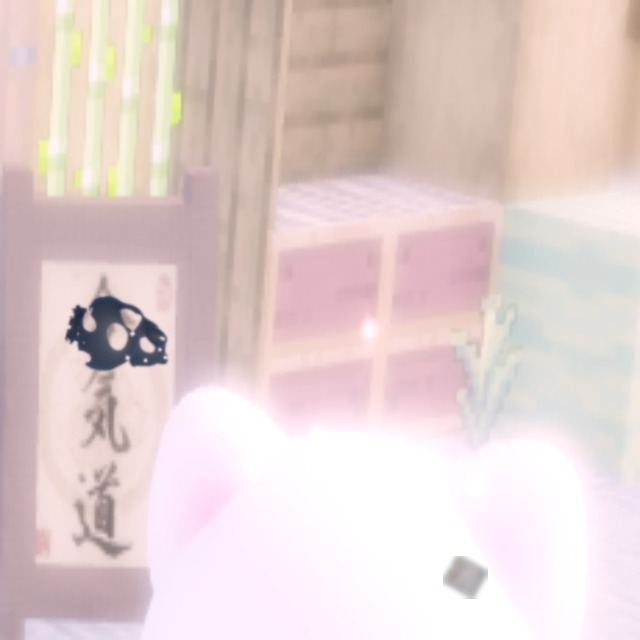urso_branco: (443, 556, 488, 599)
urso_preto: (58, 285, 187, 394)
